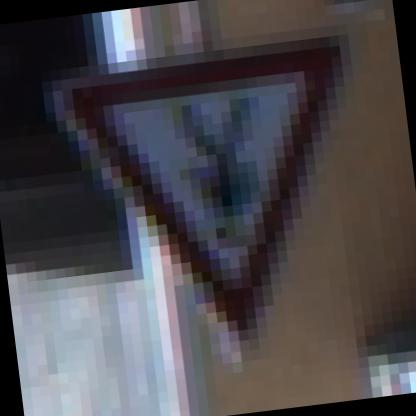crosswalk: (44, 8, 410, 364)
